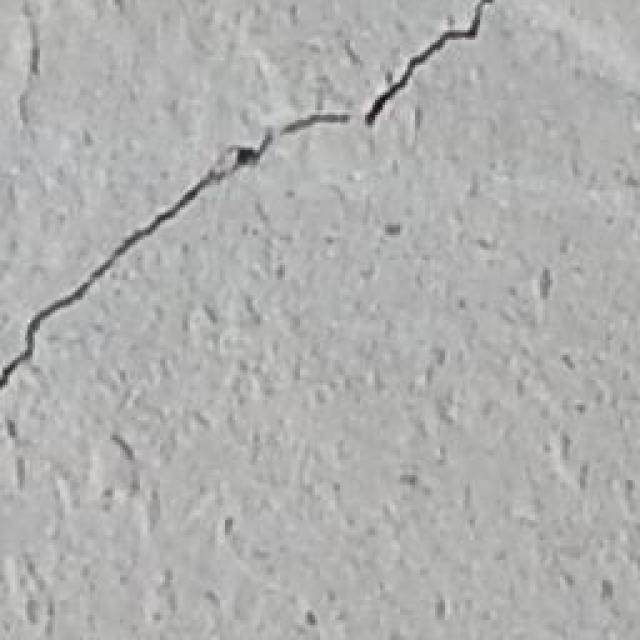concrete-crack: (1, 0, 500, 397)
